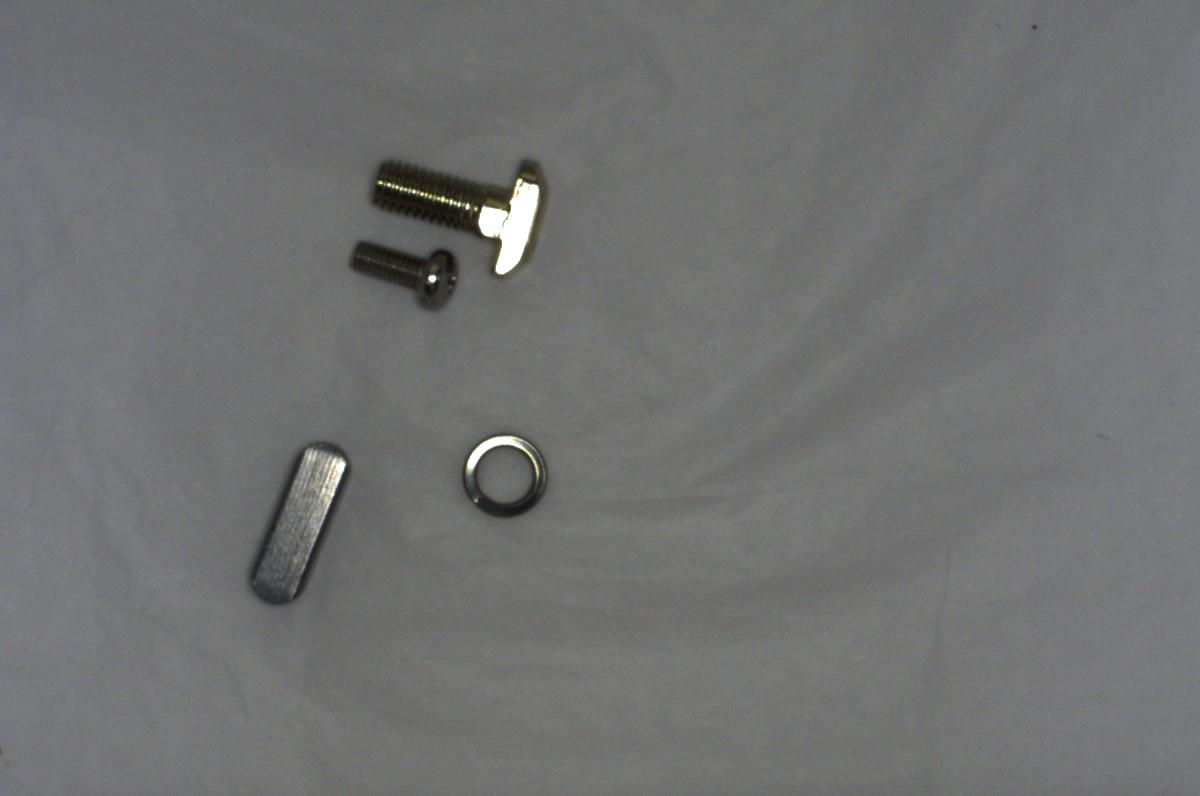Keybar: (241, 433, 351, 608)
Round head screw: (338, 225, 465, 315)
Spring washer: (442, 421, 559, 525)
T-shaped screw: (368, 140, 550, 282)
